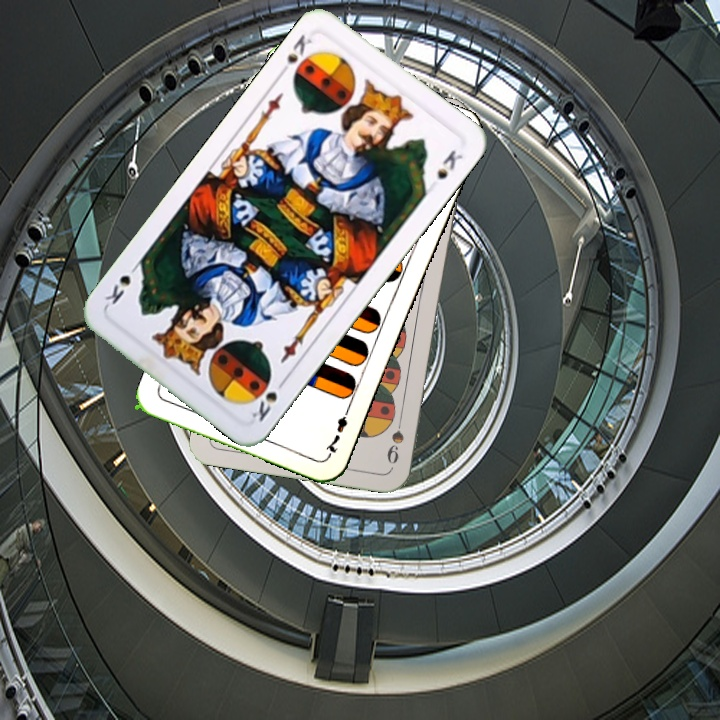E7: (321, 402, 353, 458)
S9: (383, 409, 407, 467)
SK: (247, 374, 290, 425), (274, 30, 315, 80)
